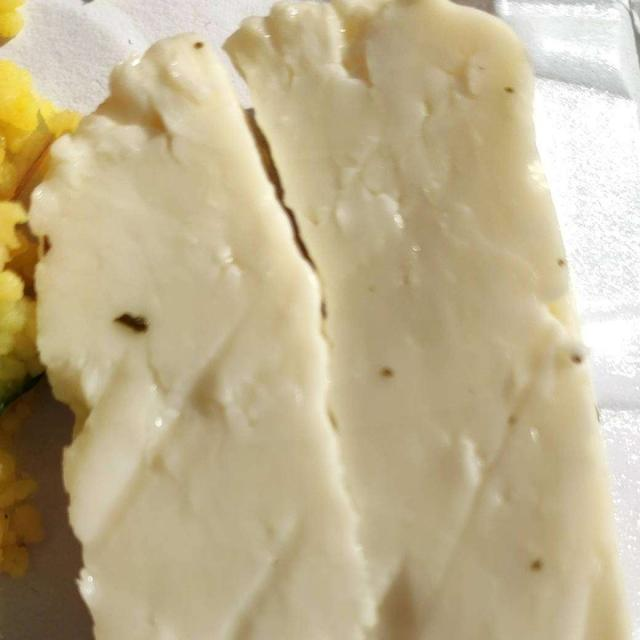halloumi: (9, 29, 622, 632)
